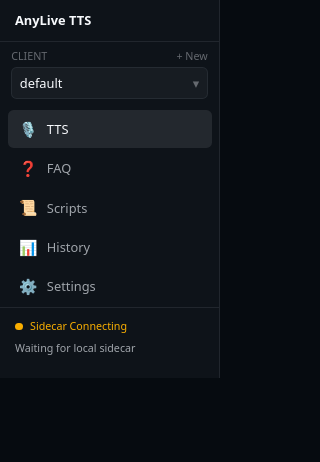
Sidebar — client create form › closes create form when button clicked again (shows Cancel when open)
The width and height of the screenshot is (320, 462).
Click the button with test id "new-client-button": [192, 57] box [176, 49, 208, 64]
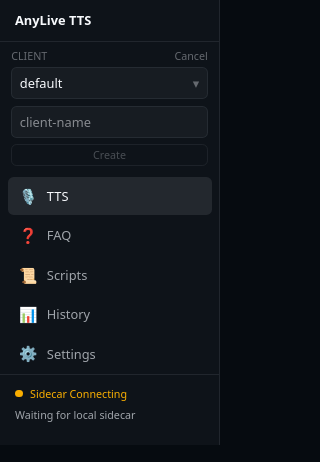
Expected: the field with test id "new-client-input" is shown, [11, 106, 208, 138]
Click the button with test id "new-client-button": [191, 57] box [174, 49, 208, 64]
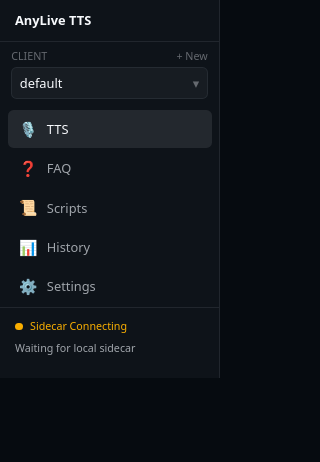
Expected: the field with test id "new-client-input" is gone
